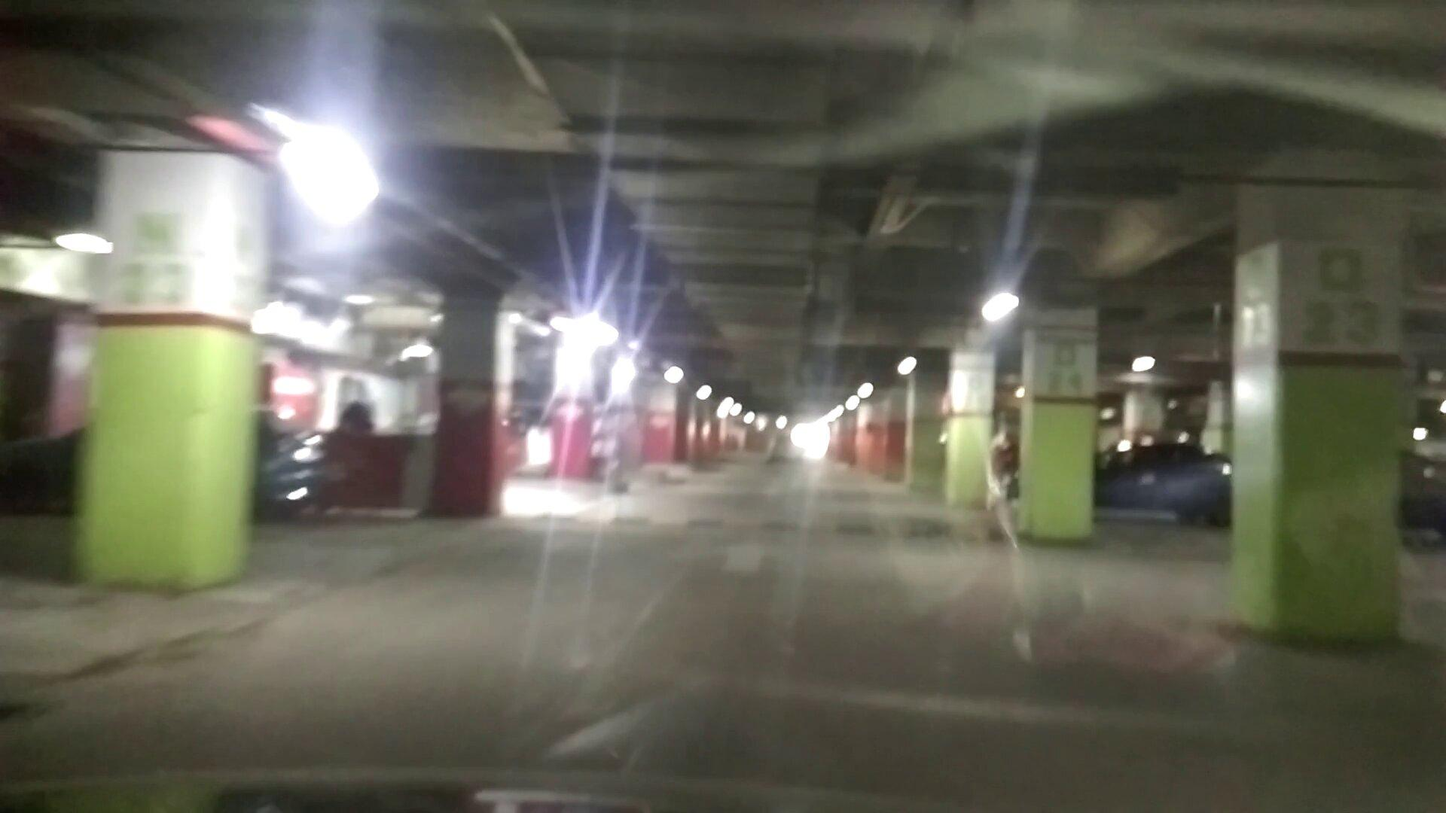Bump: (555, 510, 1011, 550)
